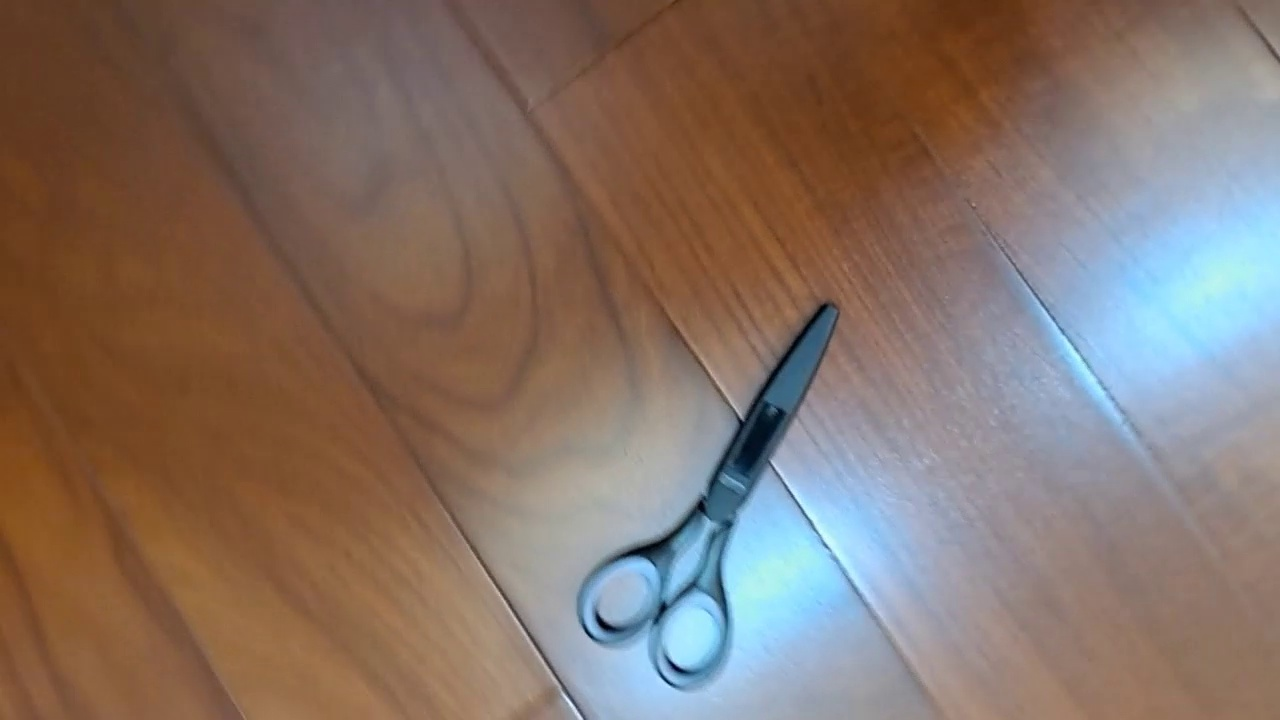scissors: (576, 299, 842, 693)
